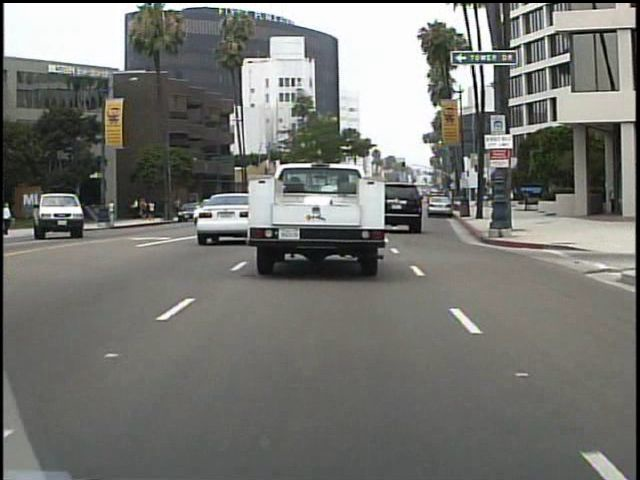person: (4, 197, 19, 237), (60, 193, 76, 230), (53, 200, 69, 236), (110, 197, 118, 225)
